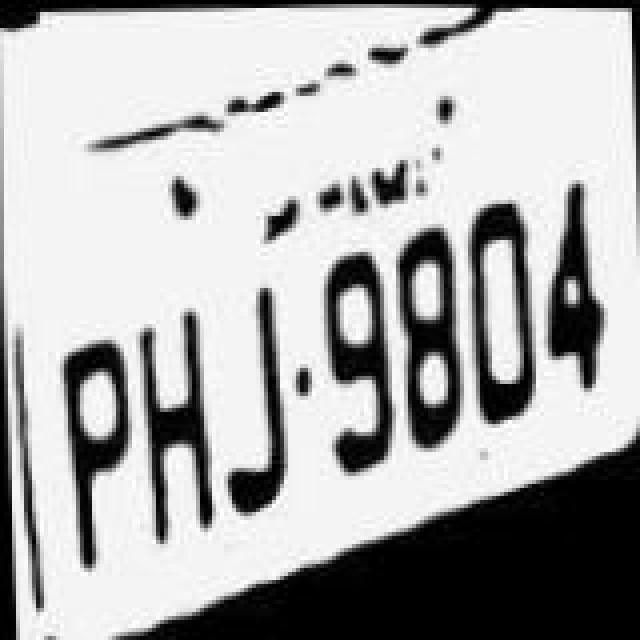4: (536, 152, 616, 420)
8: (394, 212, 474, 464)
9: (318, 234, 402, 506)
H: (132, 286, 216, 546)
J: (208, 262, 288, 530)
O: (458, 174, 538, 442)
P: (54, 310, 142, 582)
